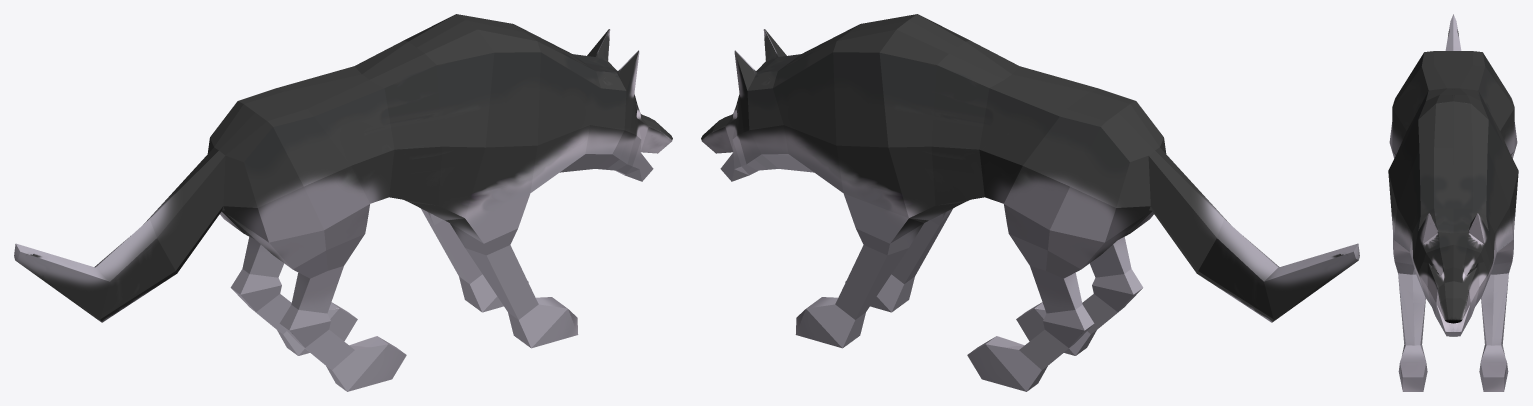
The picture shows the model from 3 angles, left to right: view 1: azimuth 30°, elevation 25°; view 2: azimuth 150°, elevation 25°; view 3: azimuth 270°, elevation 25°; orthographic projection. The views are drawn at different scales.
Parts seen in each view (by area): view 1: Wolf; view 2: Wolf; view 3: Wolf.
Boxes of the visible parts, x1,y1,x2,y2 form: Wolf: (14,14,672,391); Wolf: (701,14,1359,391); Wolf: (1388,14,1518,391).
Size of the model in its own units: 284 by 130 by 59.24.
1 material, 1 textured.
